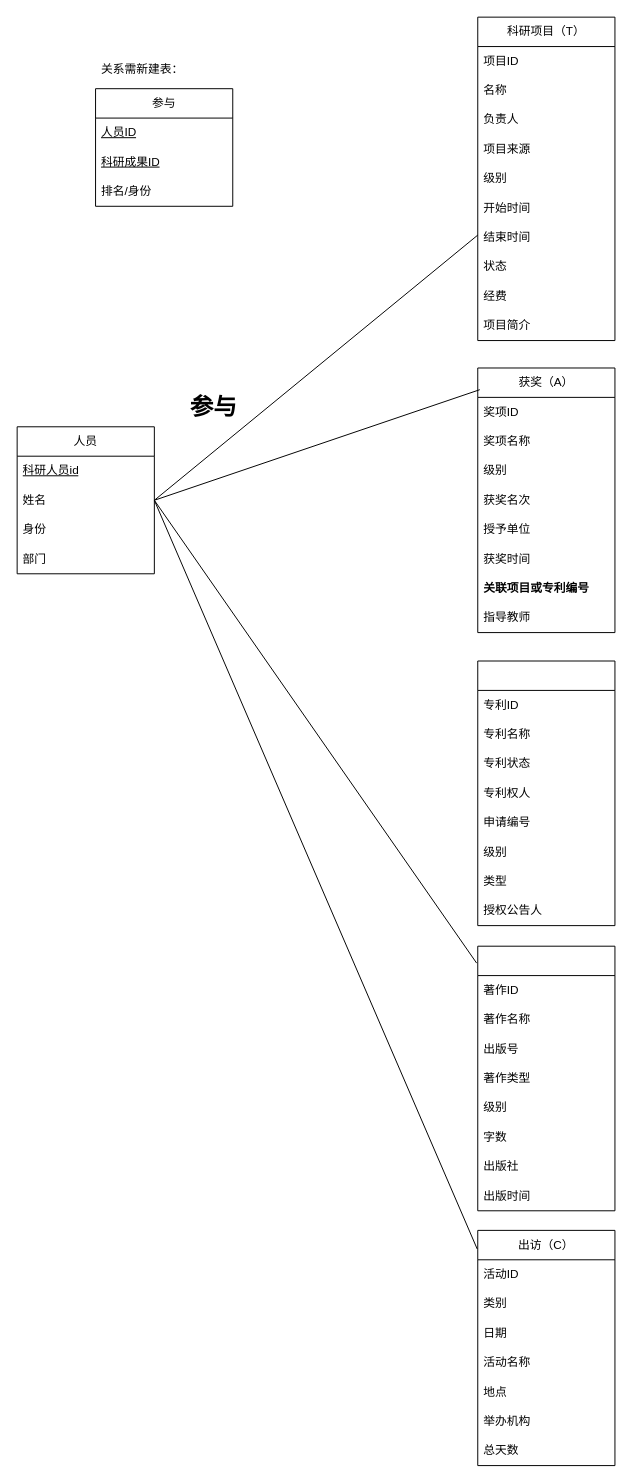
Some shapes in this 632 by 1483 pixel diagram are drawn without their labels. The shapes that lost their labels are listed below. From the top down, each one's box as (x1, y1, x2, y2) in pixels, then its label:
(477, 660, 615, 926): 专利（P）
(477, 945, 615, 1211): 著作（B）
